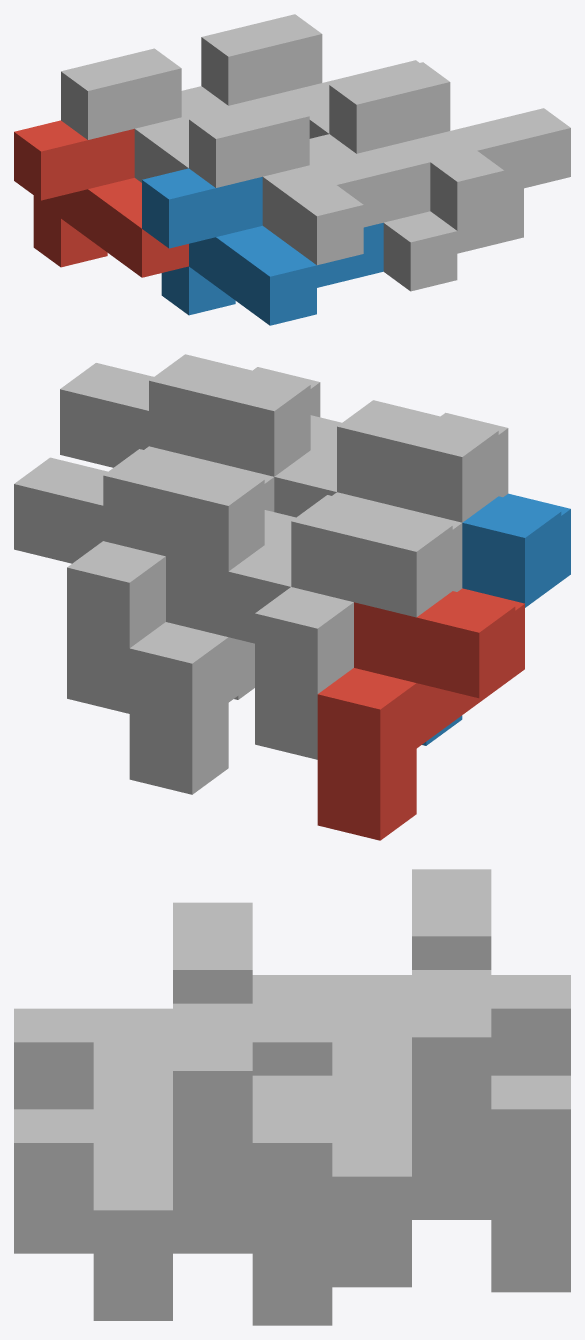
File: tiling.obj
3 views of the same model, one above another, from view 1: azimuth 30°, elevation 25°; view 2: azimuth 150°, elevation 25°; view 3: azimuth 270°, elevation 25° (orthographic). The views are drawn at different scales.
Parts seen in each view (by area): view 1: copy_1_domain_4, copy_1_domain_8, copy_1_domain_2, copy_1_domain_1, copy_1_domain_3, copy_1_domain_7, copy_1_domain_6, copy_1_domain_5; view 2: copy_1_domain_7, copy_1_domain_1, copy_1_domain_3, copy_1_domain_5, copy_1_domain_8, copy_1_domain_4, copy_1_domain_2, copy_1_domain_6; view 3: copy_1_domain_8, copy_1_domain_7, copy_1_domain_4, copy_1_domain_3, copy_1_domain_6, copy_1_domain_5.
Boxes of the visible parts, left/top/right/bottom form: copy_1_domain_4: left=189, top=96, right=430, bottom=265; copy_1_domain_8: left=329, top=62, right=570, bottom=230; copy_1_domain_2: left=142, top=168, right=383, bottom=325; copy_1_domain_1: left=14, top=120, right=188, bottom=277; copy_1_domain_3: left=61, top=48, right=278, bottom=182; copy_1_domain_7: left=201, top=14, right=419, bottom=138; copy_1_domain_6: left=309, top=134, right=523, bottom=291; copy_1_domain_5: left=181, top=86, right=227, bottom=116; copy_1_domain_7: left=14, top=449, right=274, bottom=713; copy_1_domain_1: left=317, top=588, right=524, bottom=840; copy_1_domain_3: left=255, top=495, right=462, bottom=759; copy_1_domain_5: left=129, top=545, right=291, bottom=794; copy_1_domain_8: left=60, top=354, right=320, bottom=476; copy_1_domain_4: left=310, top=400, right=508, bottom=522; copy_1_domain_2: left=422, top=493, right=570, bottom=745; copy_1_domain_6: left=234, top=450, right=336, bottom=699; copy_1_domain_8: left=14, top=1003, right=332, bottom=1287; copy_1_domain_7: left=252, top=970, right=570, bottom=1253; copy_1_domain_4: left=14, top=902, right=332, bottom=1109; copy_1_domain_3: left=252, top=869, right=570, bottom=1075; copy_1_domain_6: left=14, top=1215, right=332, bottom=1325; copy_1_domain_5: left=332, top=1181, right=570, bottom=1292.
Bounding box in the file's own units: 9 × 4 × 7.
